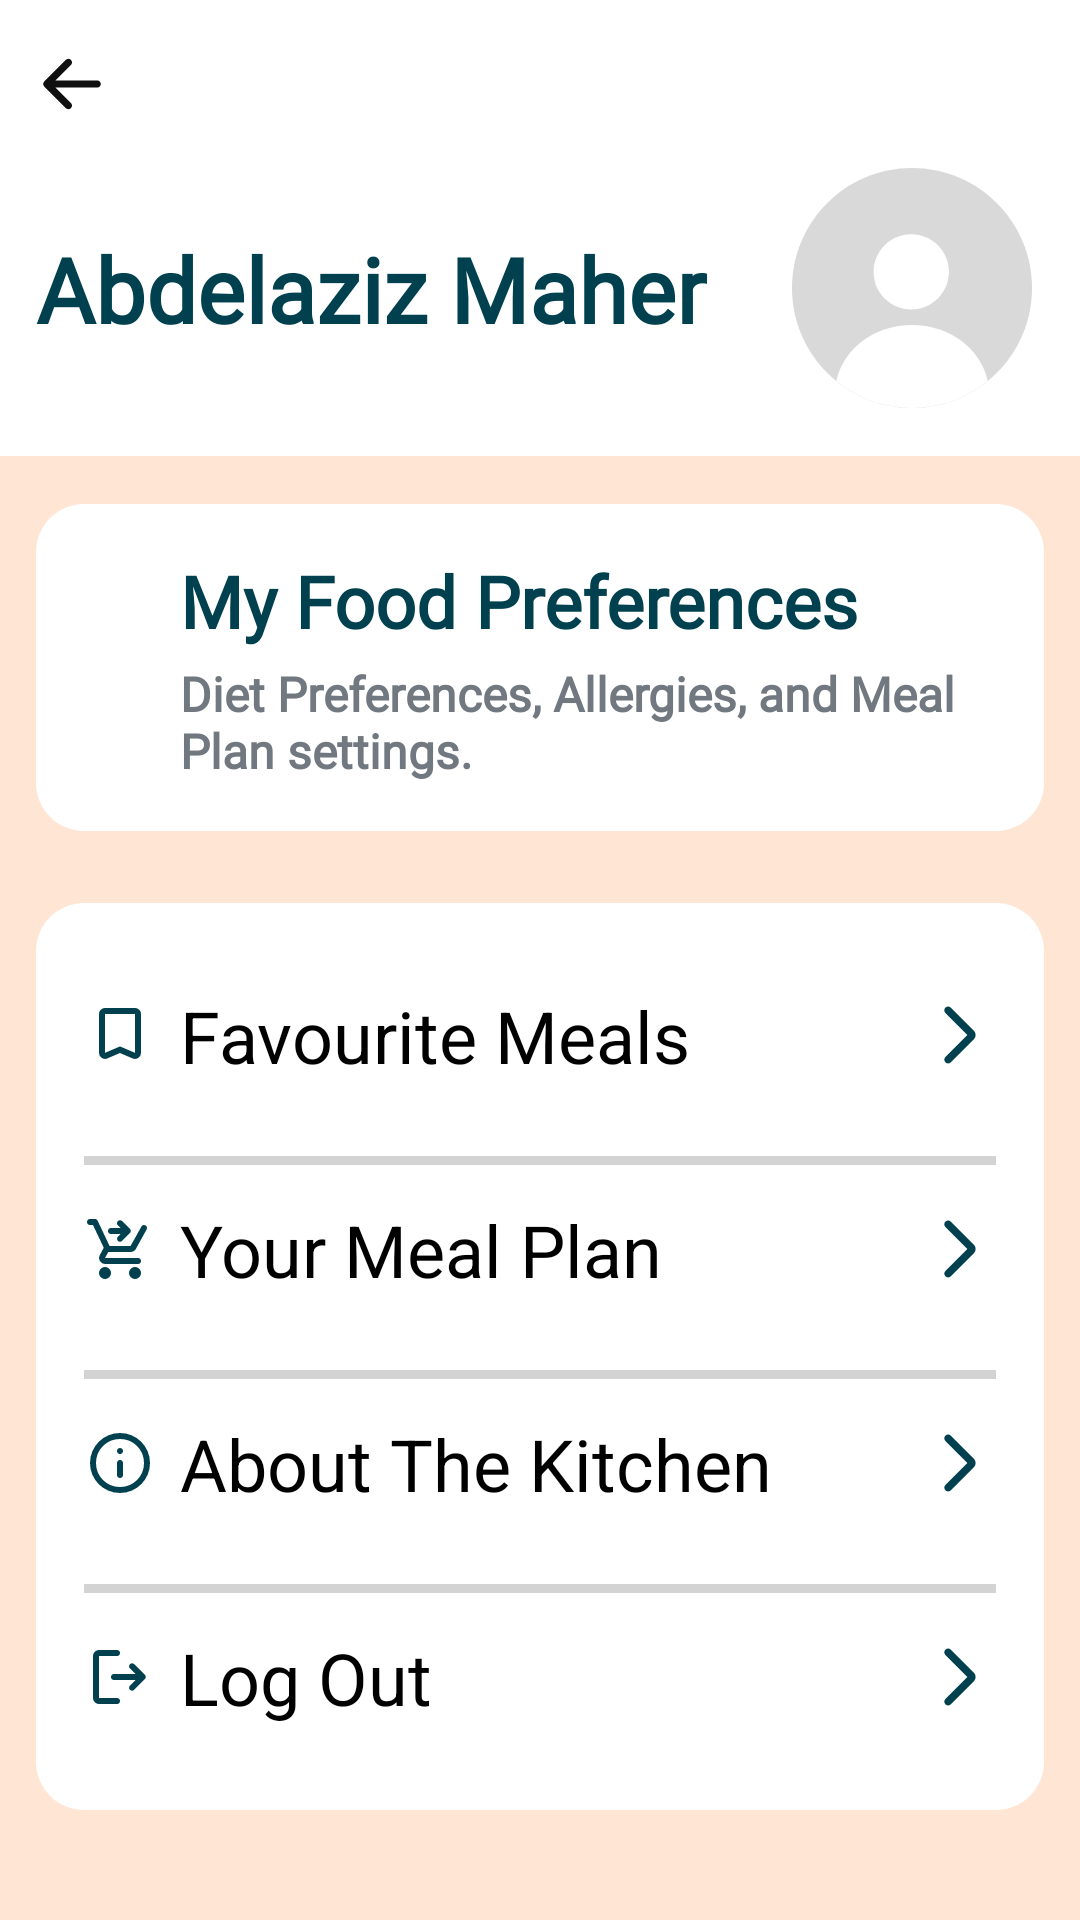

Icon click points for this 1080 x 1920 phone screenshot, format (x,y):
arrow forward: (960,1035), (960,1249), (960,1463), (960,1677)
arrowback: (72,84)
info: (120,1463)
profile: (912,274)
shopping: (117,1249)
